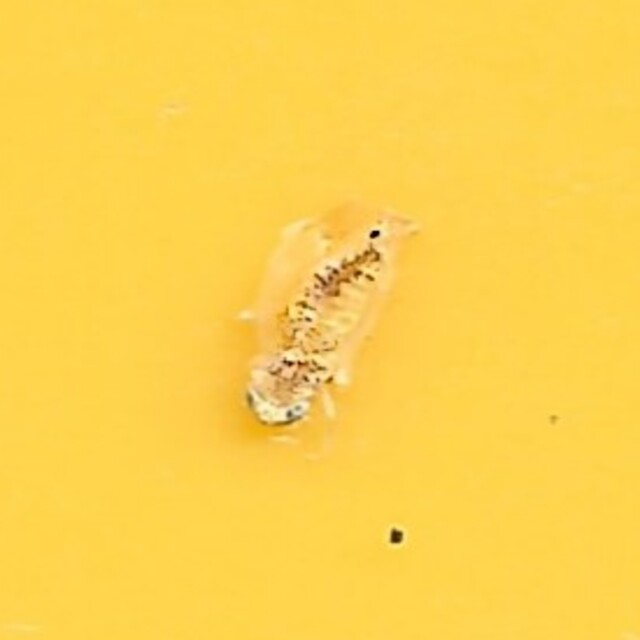Hemiptera: (233, 194, 407, 446)
